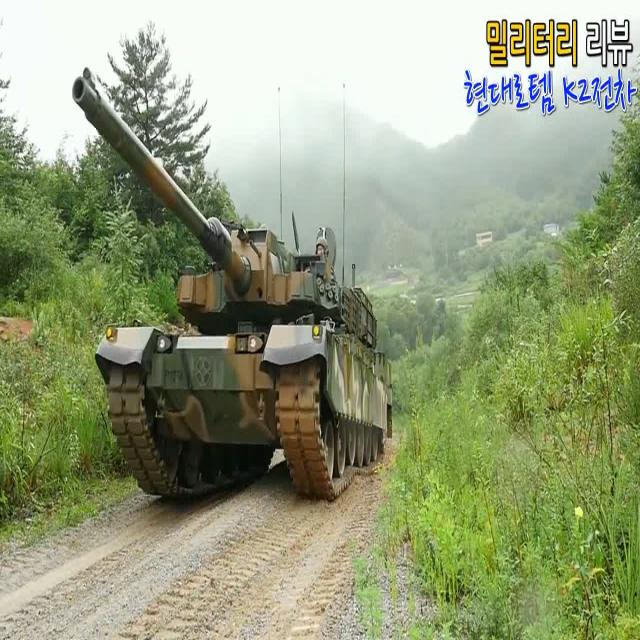korea tank: (71, 65, 395, 511)
